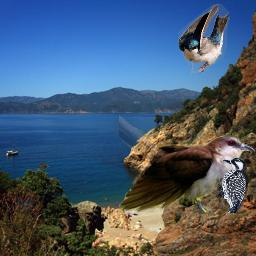Cuckoo: (119, 83, 256, 218)
Swallow: (178, 4, 230, 73)
Woodpecker: (216, 156, 248, 213)
